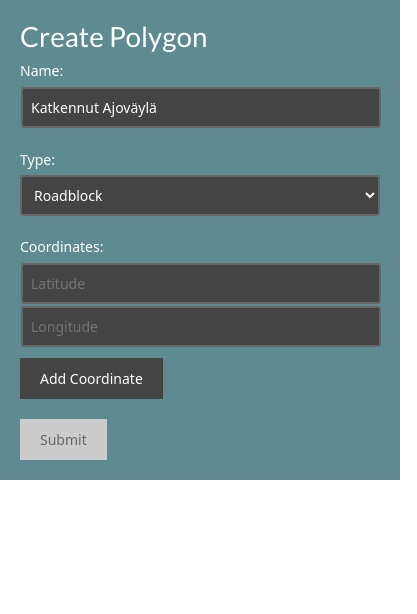
invalid extra polygon coordinate correction removes notification
Click the button "Add Coordinate": [91, 379] box x1=20 y1=358 x2=163 y2=399
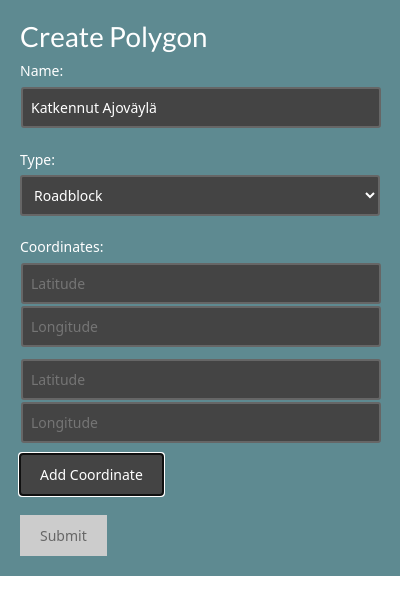
In the 2nd field with placeholder "Longitude": [201, 423] box x1=21 y1=402 x2=381 y2=443, type "0"
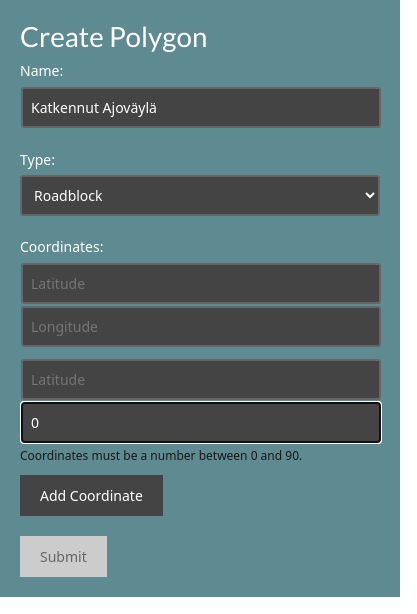
Result: the text "Coordinates must be a number between 0 and 90." is shown at x1=20 y1=447 x2=302 y2=464
In the 5th field: [201, 423] box x1=21 y1=402 x2=381 y2=443, type "2"
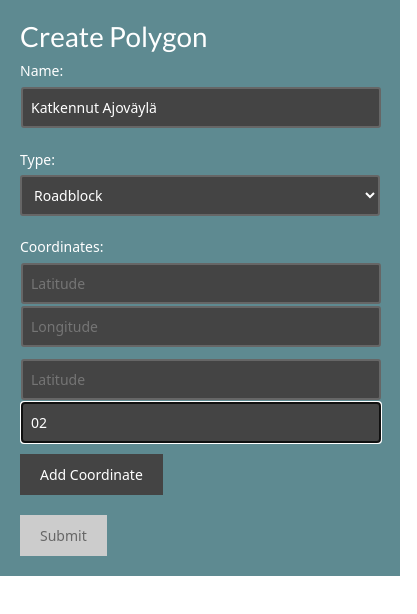
Result: the text "Coordinates must be a number between 0 and 90." is gone
